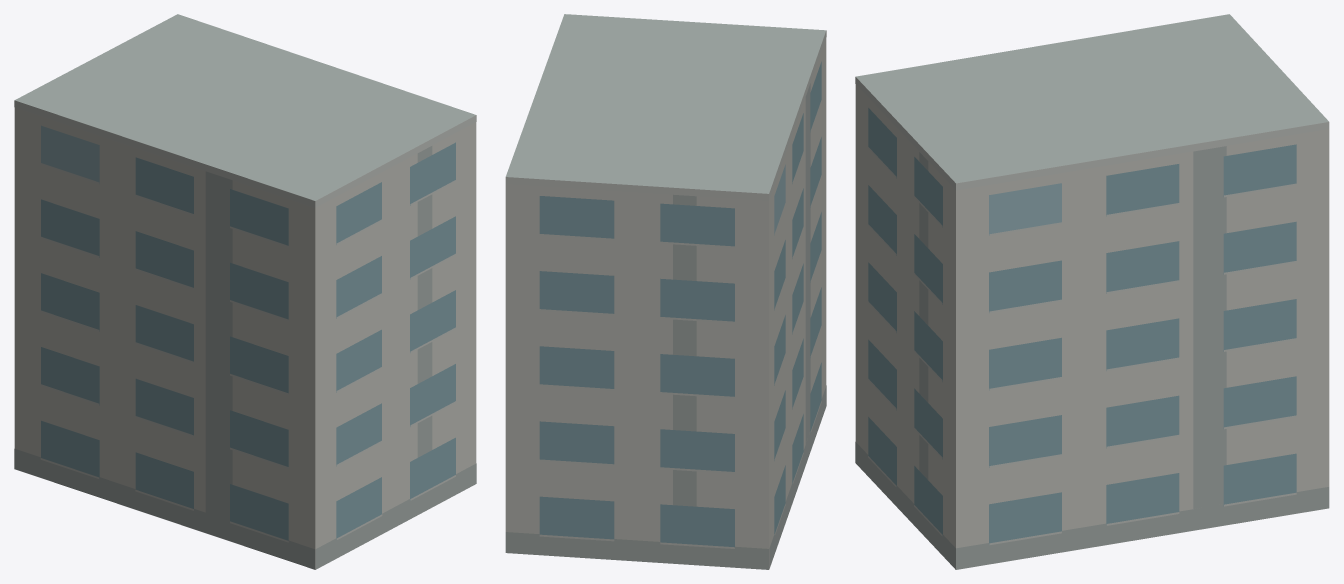
Rendered from survey-upis-32888478.glb.
3 renders of one model, left to right at view 1: azimuth 30°, elevation 25°; view 2: azimuth 150°, elevation 25°; view 3: azimuth 270°, elevation 25°, orthographic. The views are drawn at different scales.
Visible parts, largest first — view 1: survey-upis-32888478.tmp; view 2: survey-upis-32888478.tmp; view 3: survey-upis-32888478.tmp.
Part boxes in pixels (x1,y1,x2,y2): survey-upis-32888478.tmp: (14,14,476,569); survey-upis-32888478.tmp: (505,14,826,569); survey-upis-32888478.tmp: (855,14,1329,569).
Size of the model in its own units: 12.23 by 13 by 14.46.
